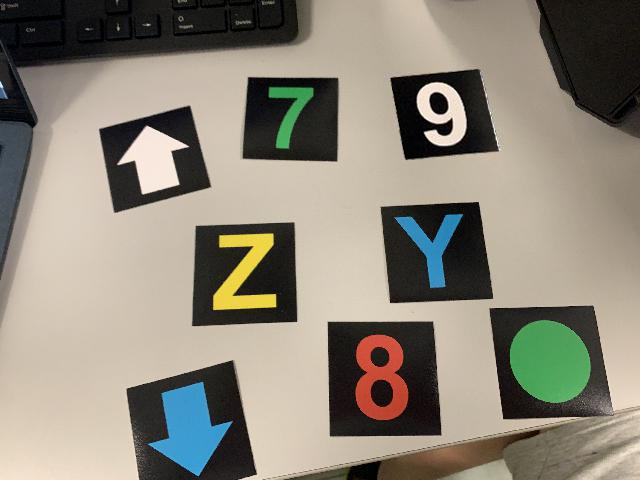7: (241, 74, 340, 164)
8: (326, 320, 443, 438)
9: (391, 68, 502, 163)
down: (124, 358, 262, 479)
go: (488, 304, 616, 419)
up: (98, 104, 212, 214)
y: (378, 200, 496, 304)
z: (191, 220, 299, 332)
